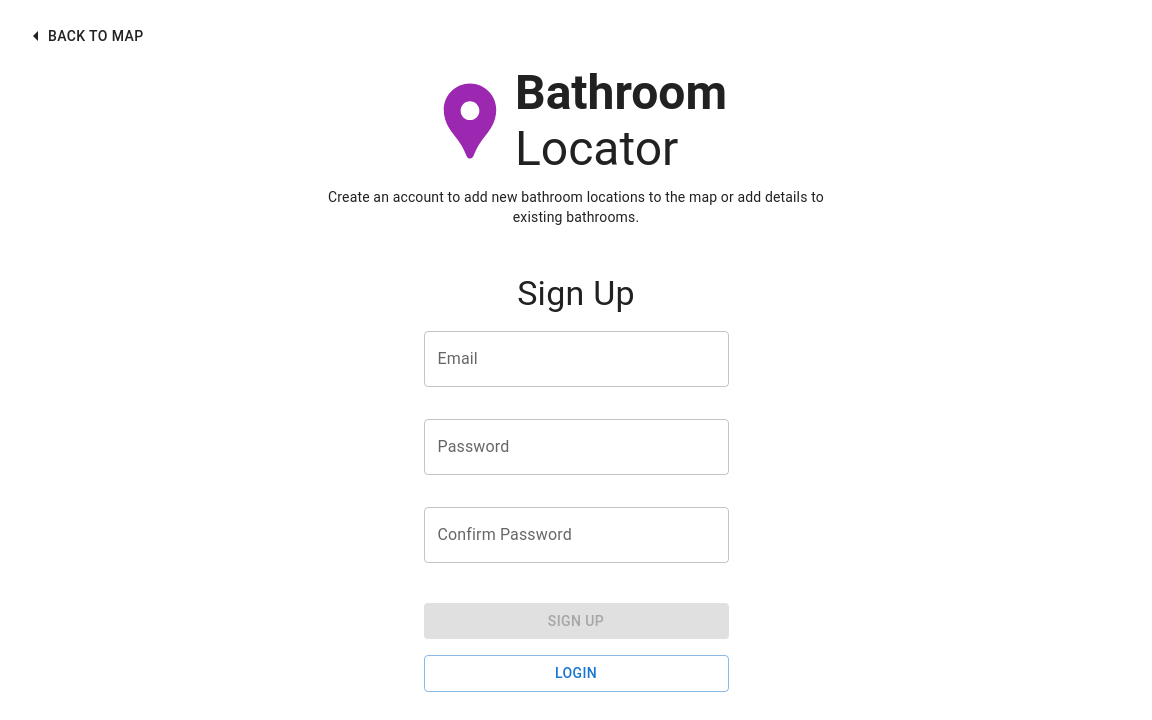
Test: Passwords don't match › displays error message
In the field labelled "Email": (576, 358) x1=424 y1=330 x2=728 y2=386, type "test@example.com"
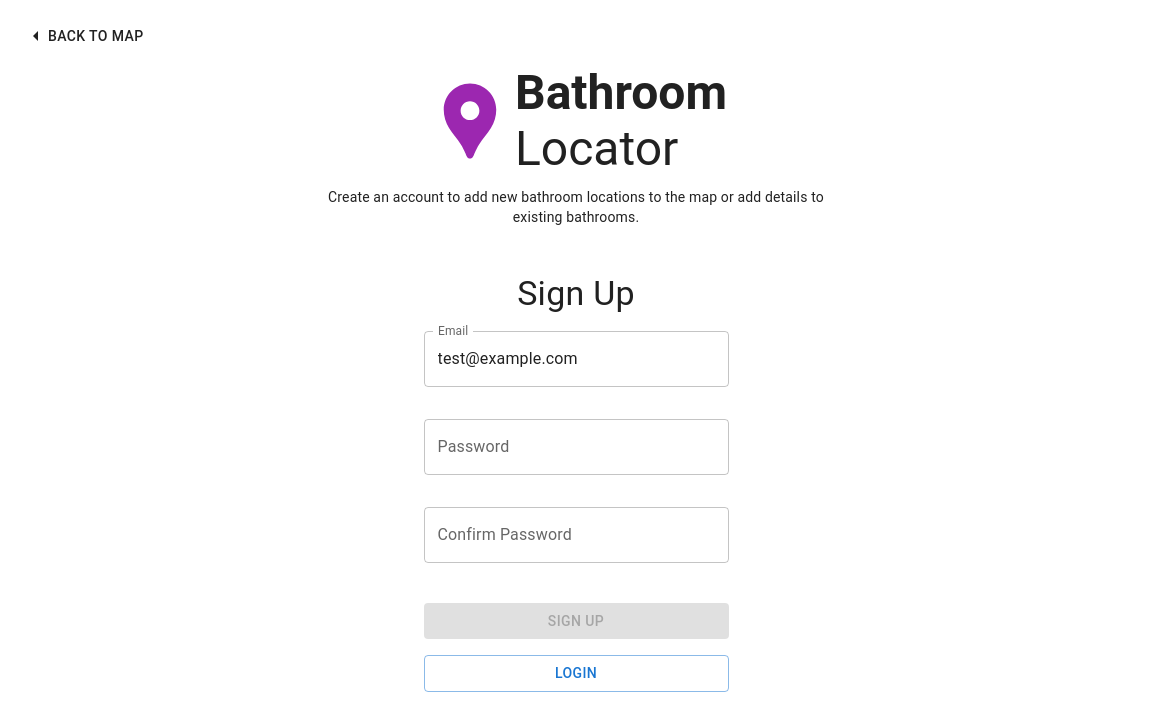
In the password field labelled "Password": (576, 446) x1=424 y1=418 x2=728 y2=474, type "password123"
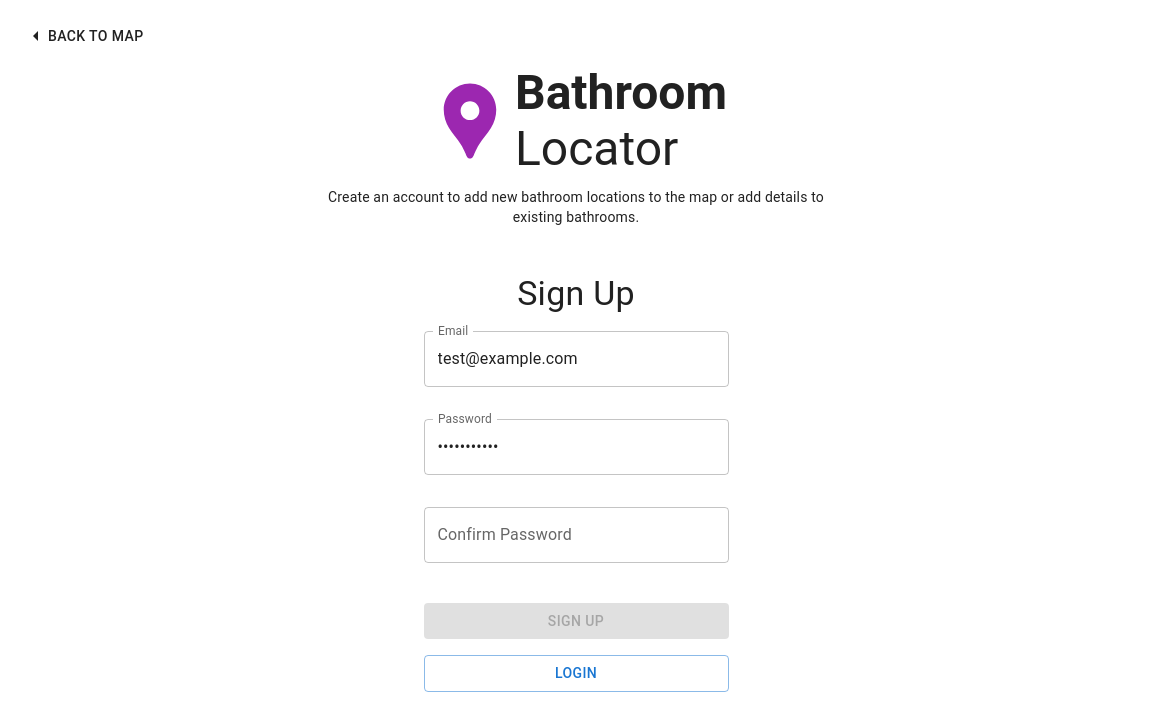
In the password field labelled "Confirm Password": (576, 534) x1=424 y1=506 x2=728 y2=562, type "notpassword123"
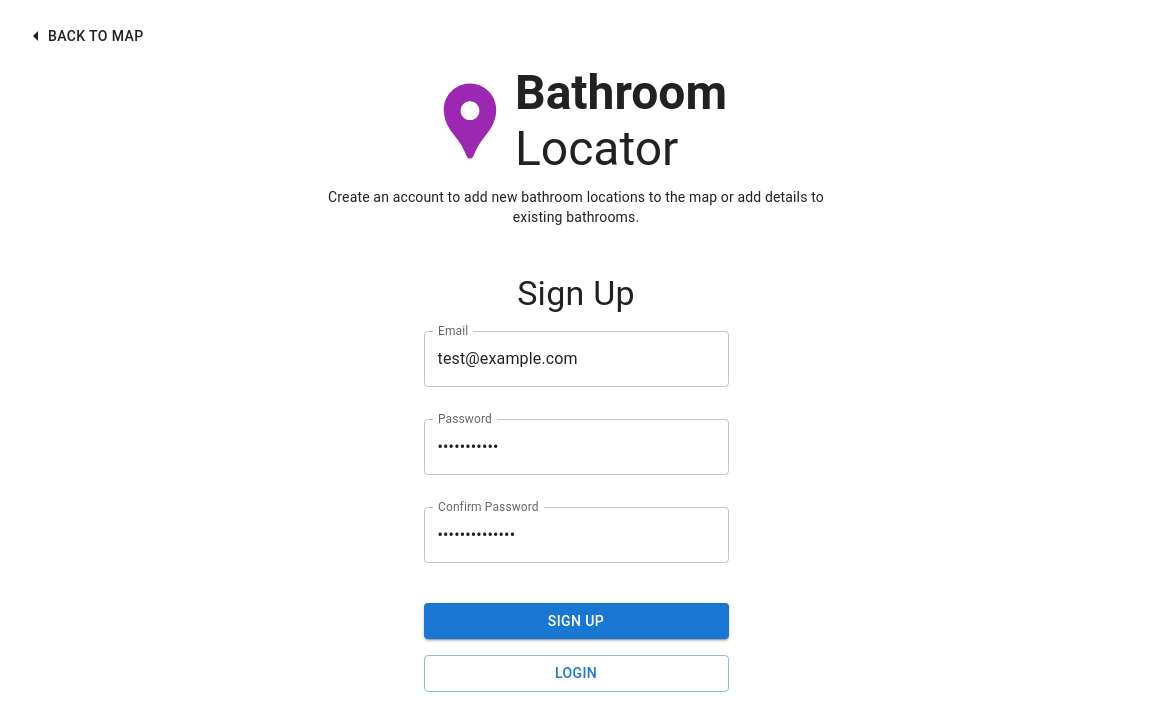
Click the button "Sign Up": (576, 621) x1=424 y1=602 x2=728 y2=639
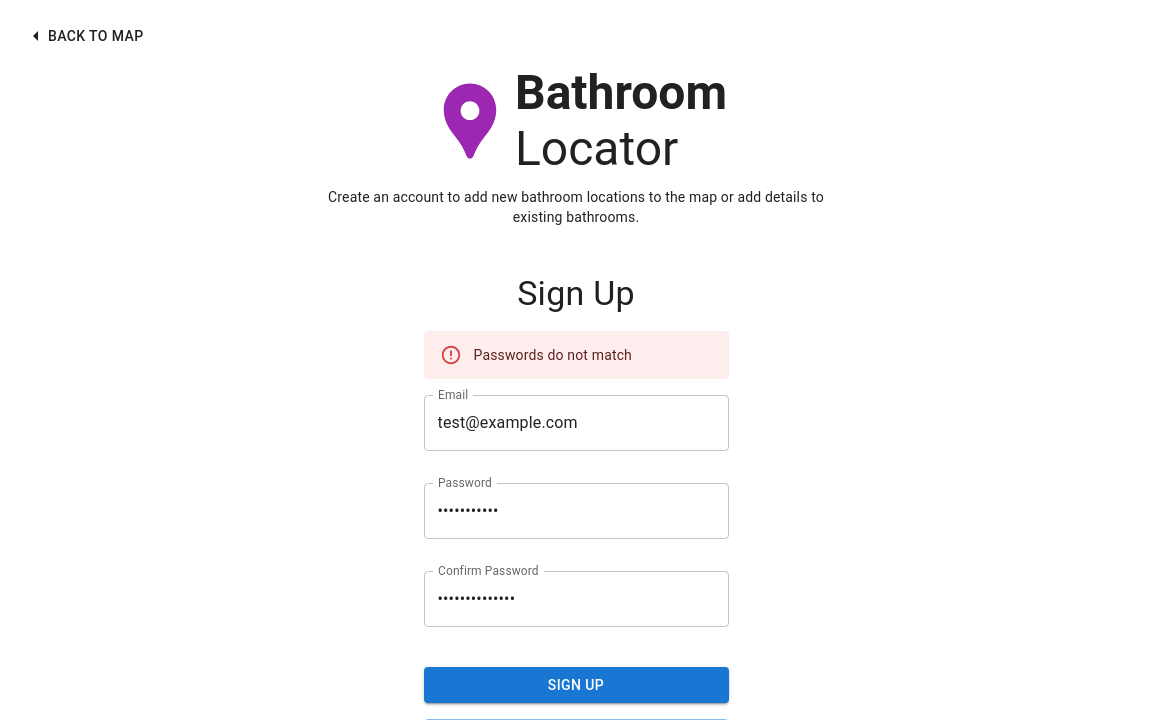
Now the message reads "Passwords do not match", box x1=474 y1=346 x2=632 y2=362
